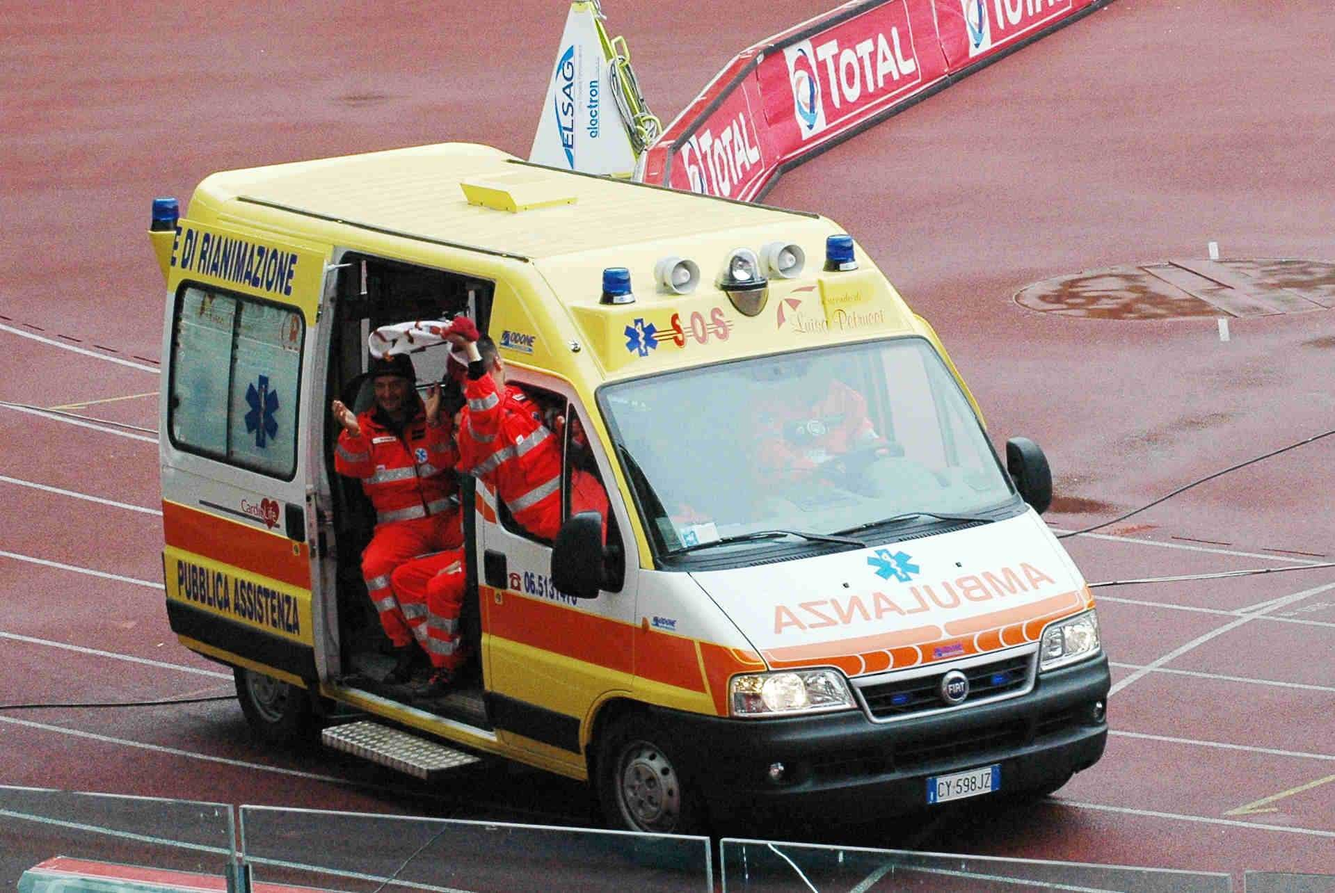Ambulance: (143, 107, 1081, 862)
